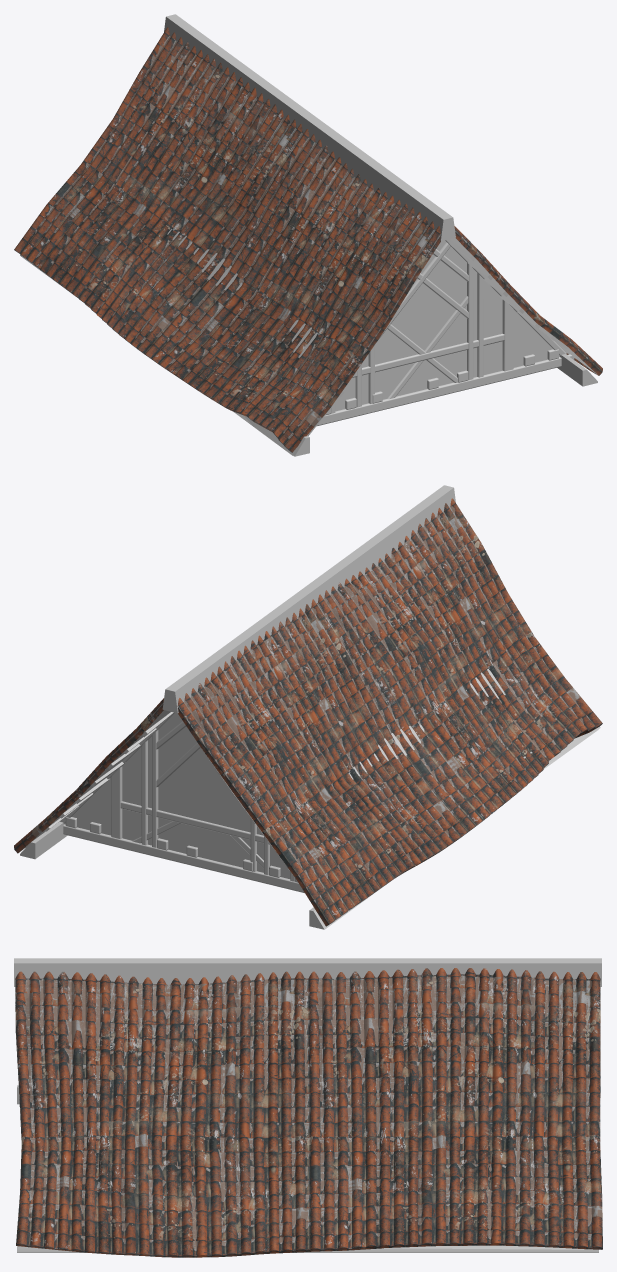
The model's file is SM_HouseRoof01.FBX.
The picture shows the model from 3 angles, top to bottom: view 1: azimuth 30°, elevation 25°; view 2: azimuth 150°, elevation 25°; view 3: azimuth 270°, elevation 25°; orthographic projection. The views are drawn at different scales.
Parts seen in each view (by area): view 1: SM_HouseRoof01; view 2: SM_HouseRoof01; view 3: SM_HouseRoof01.
Part boxes in pixels (left/top/right/bottom): SM_HouseRoof01: left=14, top=14, right=602, bottom=456; SM_HouseRoof01: left=14, top=485, right=602, bottom=929; SM_HouseRoof01: left=14, top=958, right=602, bottom=1257.
Bounding box in the file's own units: 532 × 784 × 318.
